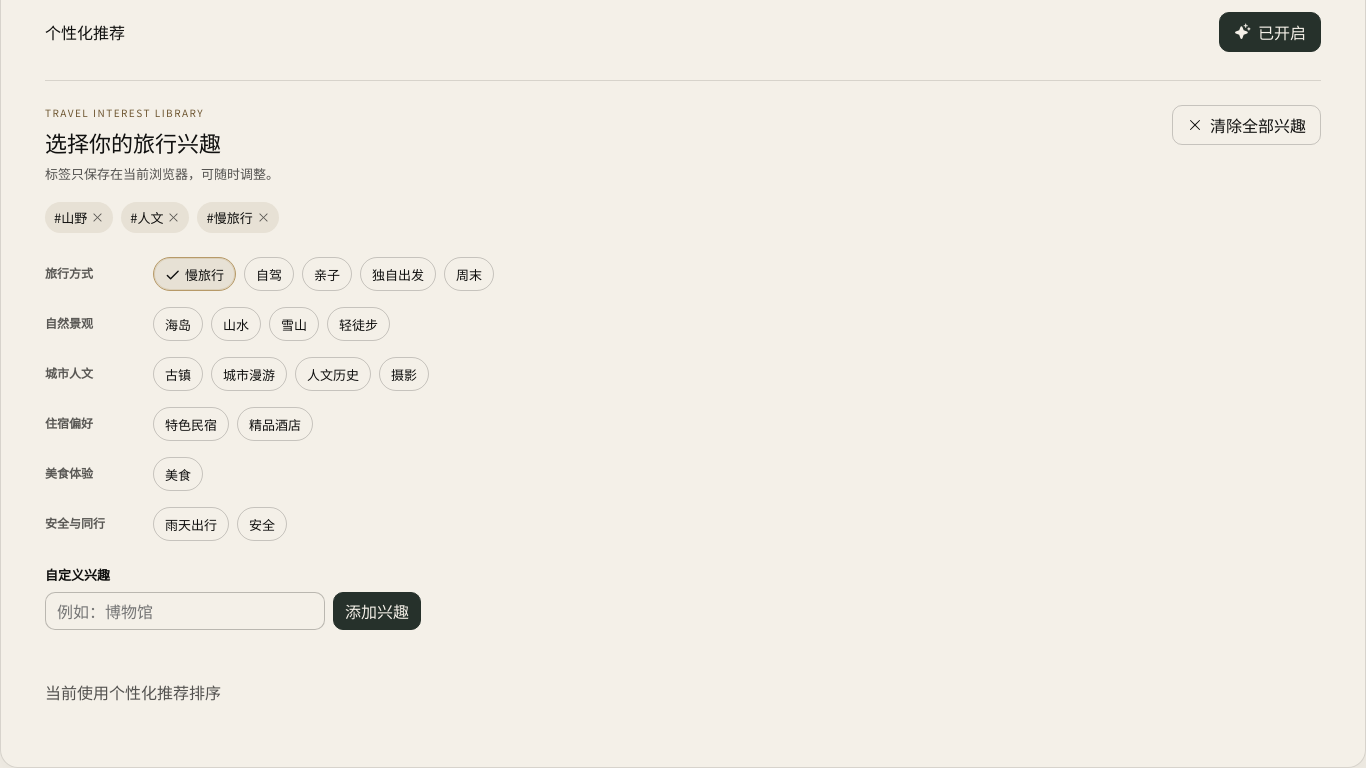
Test: InterestTagPicker › removes a selected custom tag and explains invalid custom input inline
(page scrolled)
Type "博物馆" into the field labelled "自定义兴趣" at (185, 611), box top-left (45, 592), bottom-right (325, 630)
Then press Enter
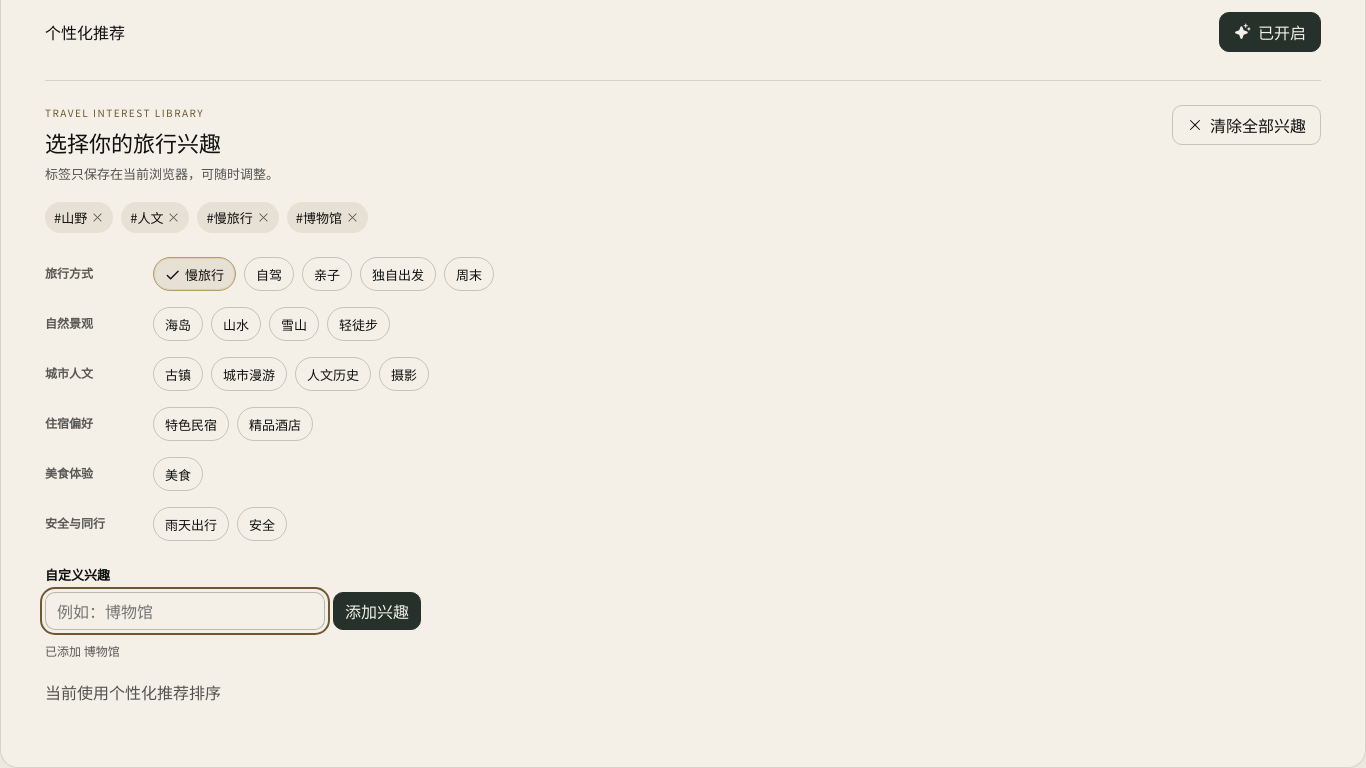
Click the button named "移除 博物馆" at (352, 218), box top-left (346, 211), bottom-right (359, 224)
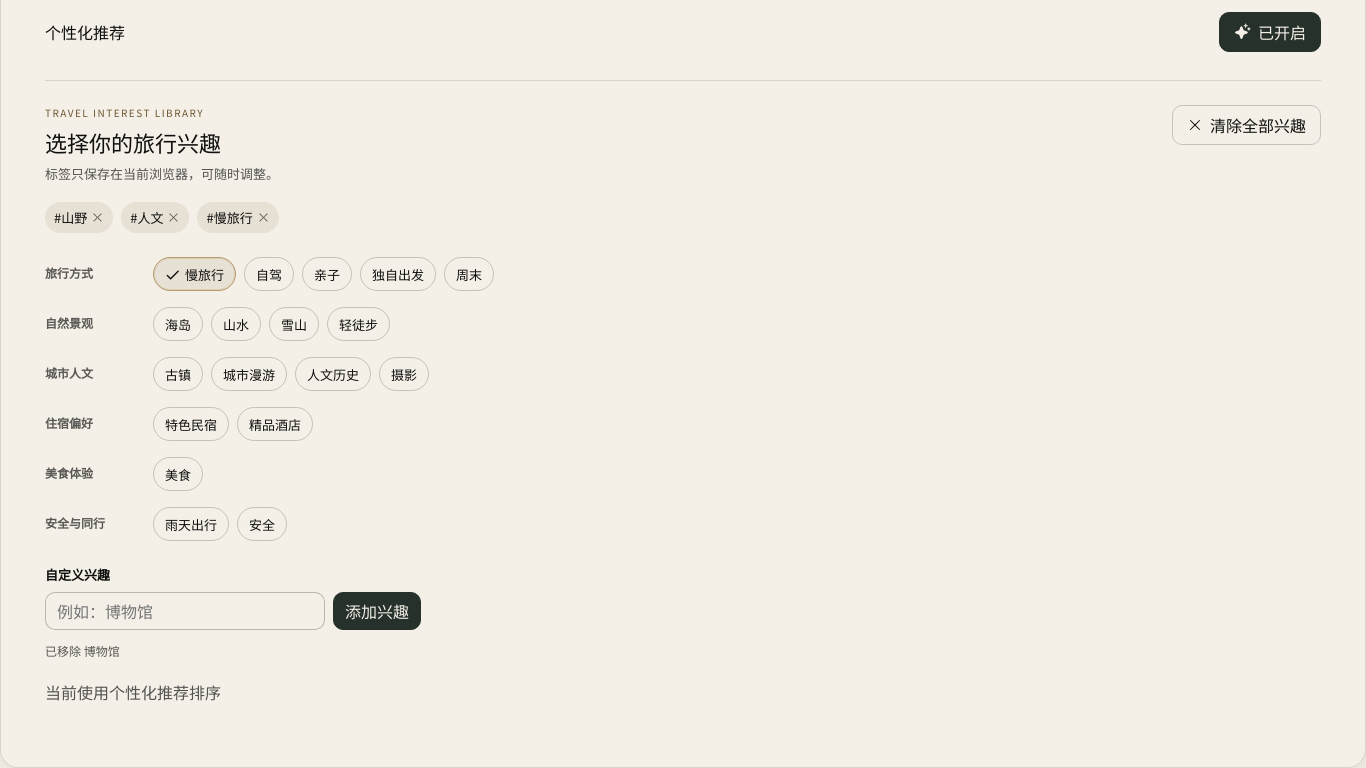
Type "旅" into the field labelled "自定义兴趣" at (185, 611), box top-left (45, 592), bottom-right (325, 630)
Then press Enter
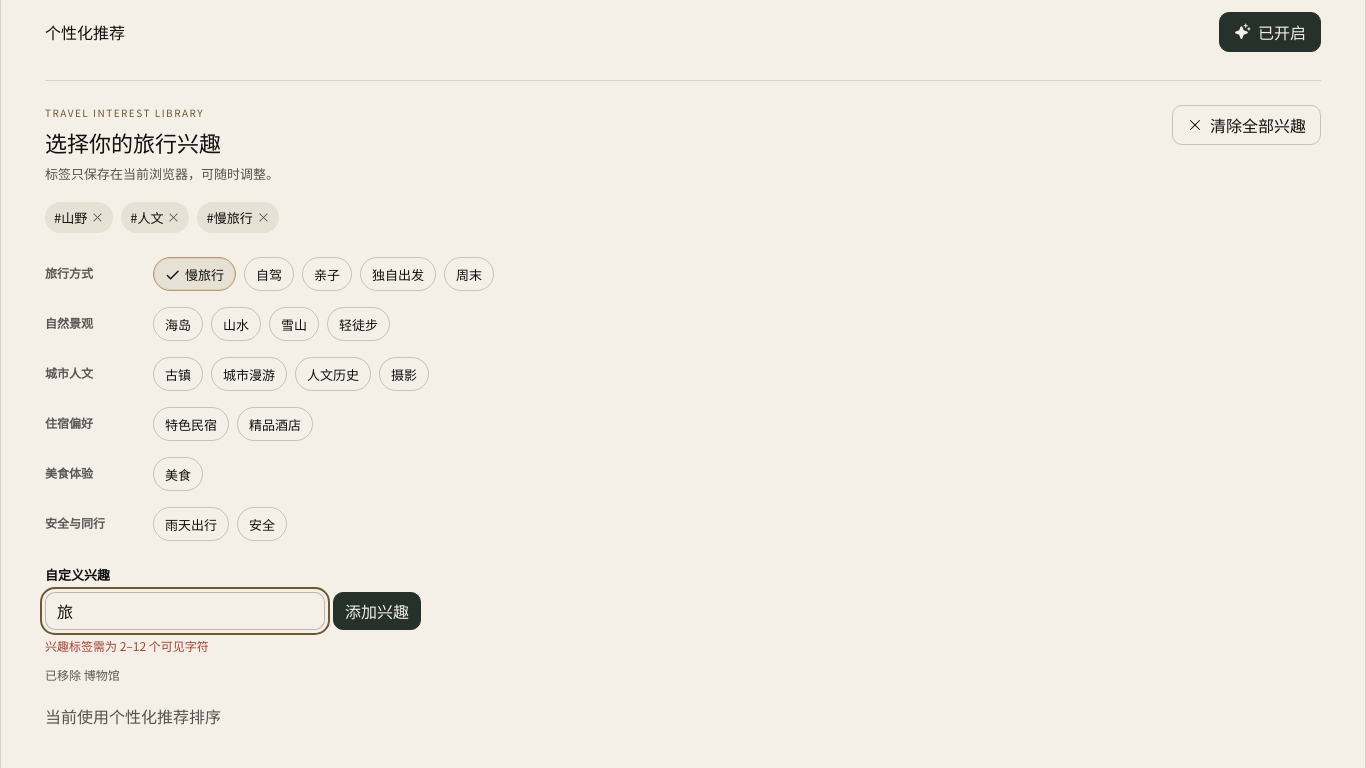
Expected: the message "兴趣标签需为 2–12 个可见字符" is shown, top-left (45, 637), bottom-right (209, 654)
